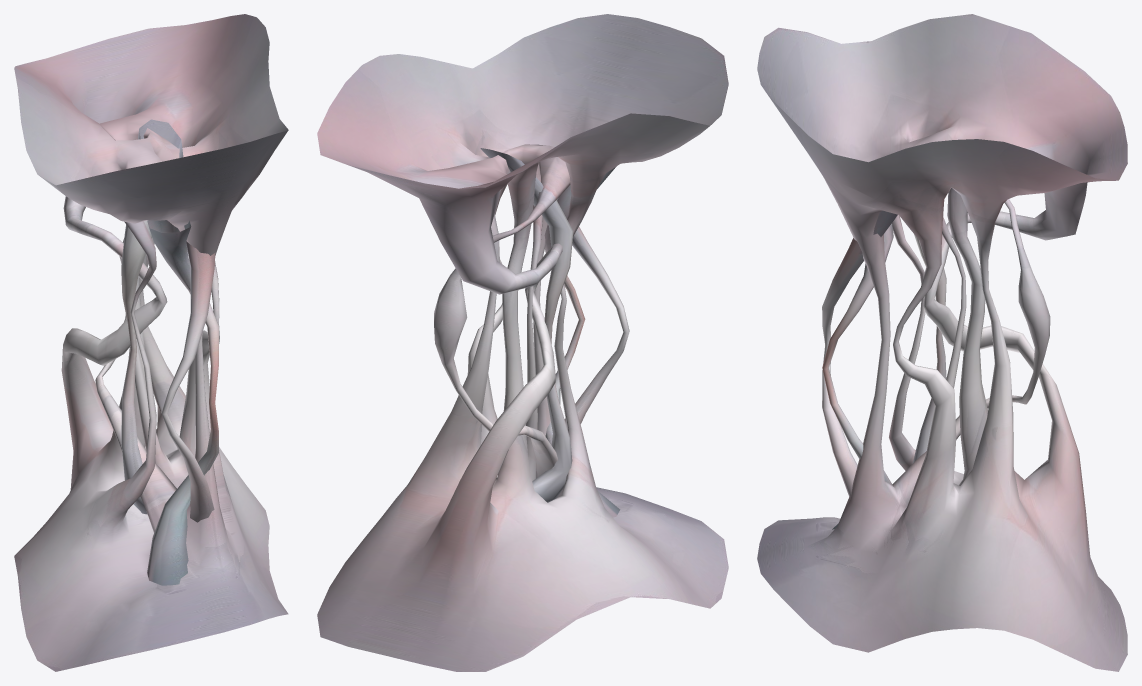
The model's file is Sticky_Leukocyte.fbx.
3 renders of one model, left to right at view 1: azimuth 30°, elevation 25°; view 2: azimuth 150°, elevation 25°; view 3: azimuth 270°, elevation 25°, orthographic.
Parts seen in each view (by area): view 1: Sticky_Leukocyte, Sticky_Leukocyte 2-2, Sticky_Leukocyte 2-1, Sticky_Leukocyte 2-4; view 2: Sticky_Leukocyte, Sticky_Leukocyte 2-4, Sticky_Leukocyte 2-1, Sticky_Leukocyte 2-2; view 3: Sticky_Leukocyte, Sticky_Leukocyte 2-1, Sticky_Leukocyte 2-2, Sticky_Leukocyte 2-4.
Part boxes in pixels (left/top/right/bottom): Sticky_Leukocyte: left=14, top=14, right=288, bottom=671; Sticky_Leukocyte 2-2: left=147, top=220, right=218, bottom=585; Sticky_Leukocyte 2-1: left=161, top=241, right=215, bottom=522; Sticky_Leukocyte 2-4: left=121, top=119, right=183, bottom=514; Sticky_Leukocyte: left=317, top=14, right=728, bottom=671; Sticky_Leukocyte 2-4: left=480, top=148, right=573, bottom=502; Sticky_Leukocyte 2-1: left=556, top=198, right=629, bottom=427; Sticky_Leukocyte 2-2: left=544, top=166, right=620, bottom=517; Sticky_Leukocyte: left=757, top=14, right=1127, bottom=671; Sticky_Leukocyte 2-1: left=822, top=210, right=897, bottom=496; Sticky_Leukocyte 2-2: left=822, top=223, right=893, bottom=529; Sticky_Leukocyte 2-4: left=912, top=234, right=946, bottom=463.
Size of the model in its own units: 398 by 705 by 438.
